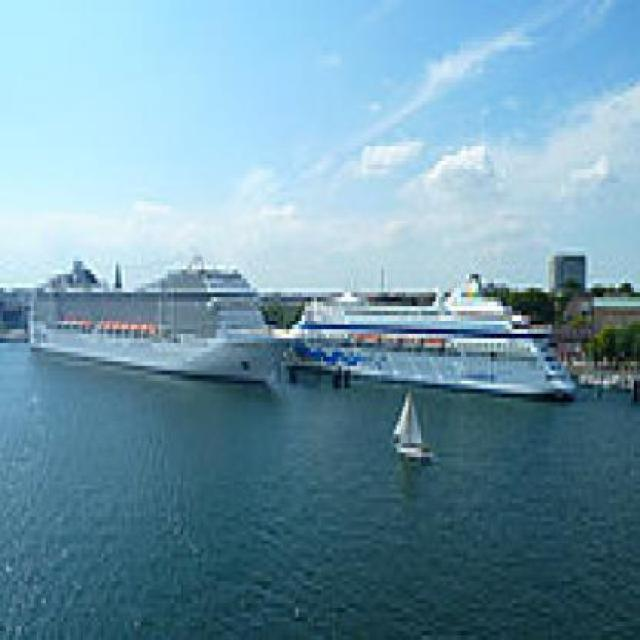cruise: (282, 266, 599, 422), (23, 239, 309, 394)
